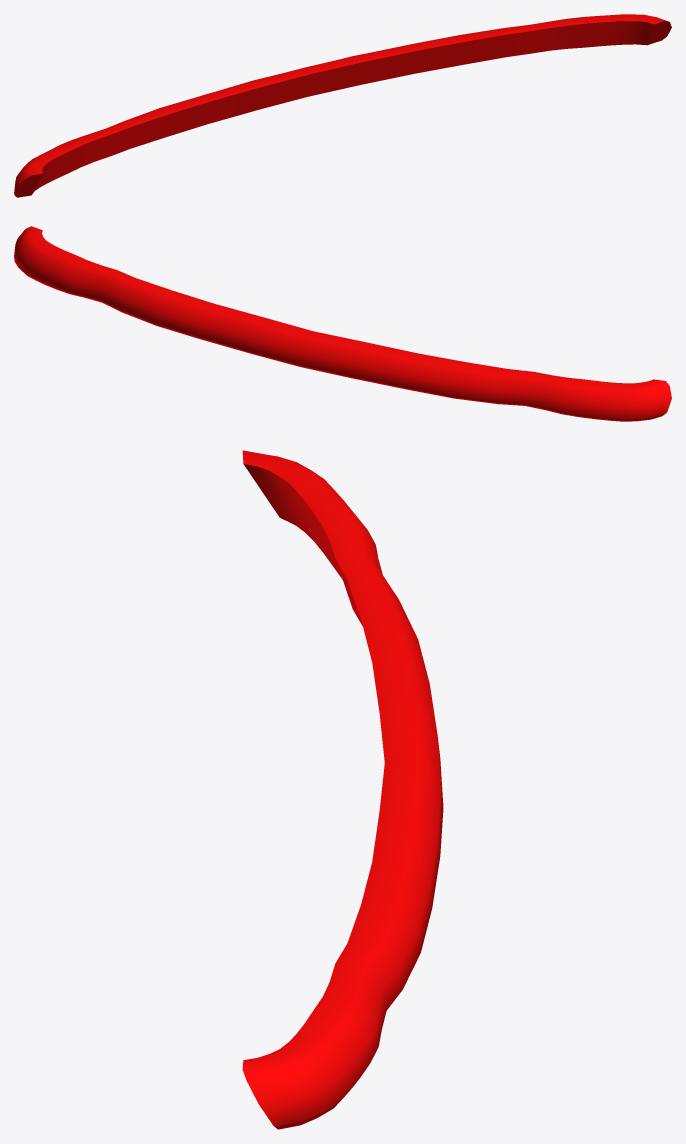
Rendered from Mini_BB01_Trim.fbx.
The picture shows the model from 3 angles, top to bottom: view 1: azimuth 30°, elevation 25°; view 2: azimuth 150°, elevation 25°; view 3: azimuth 270°, elevation 25°; orthographic projection. The views are drawn at different scales.
Visible parts, largest first — view 1: Mini_BB01_Trim; view 2: Mini_BB01_Trim; view 3: Mini_BB01_Trim.
Part boxes in pixels (x1,y1,x2,y2): Mini_BB01_Trim: [14, 14, 671, 197]; Mini_BB01_Trim: [14, 226, 671, 421]; Mini_BB01_Trim: [242, 450, 443, 1129].
Bounding box in the file's own units: 134 × 5.89 × 17.83.
